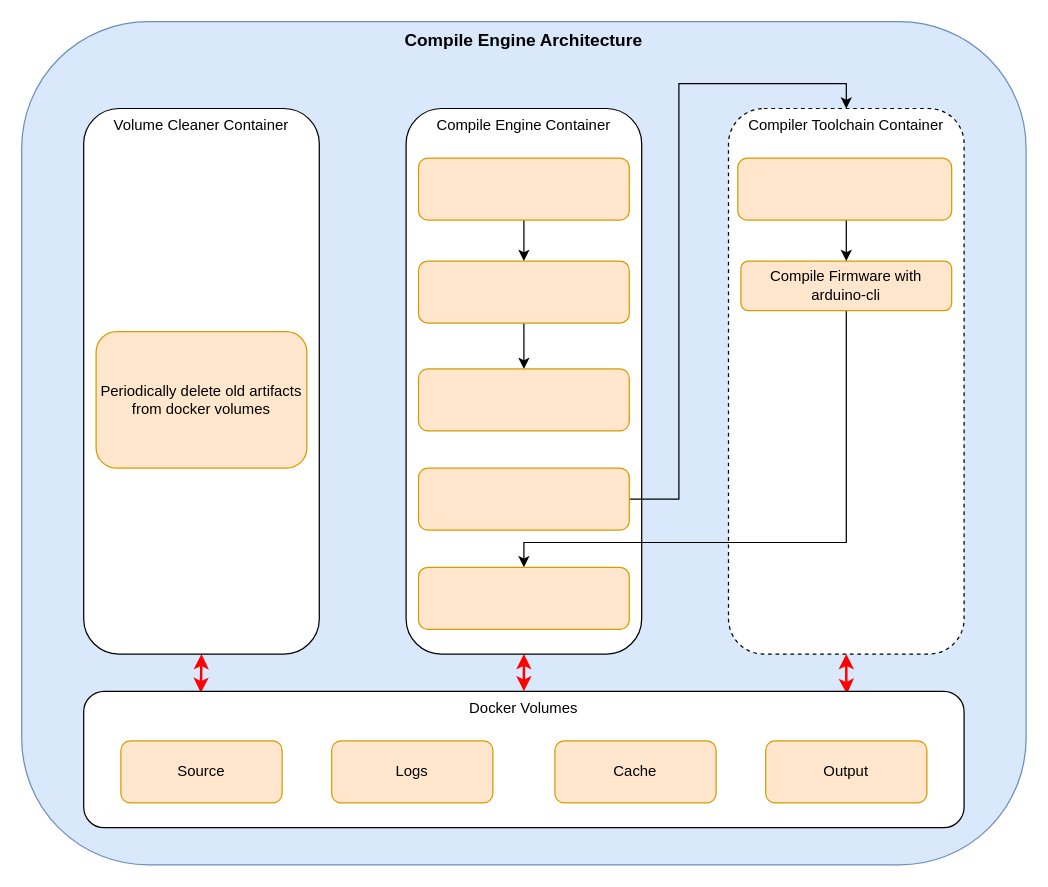
This 1048x887 diagram has some shape labels left out. Each missing label, with the centre of its shape:
"Build binaries in a dedicated docker container" goes at [523,498].
"Download Source code from Gitlab" goes at [523,291].
"Generate config.h file with configuration information" goes at [523,399].
"Make generated files available over REST endpoint" goes at [523,597].
"Prepare Building environment: - install new boards - install new libraries" goes at [844,188].
"REST API Server" goes at [523,188].
